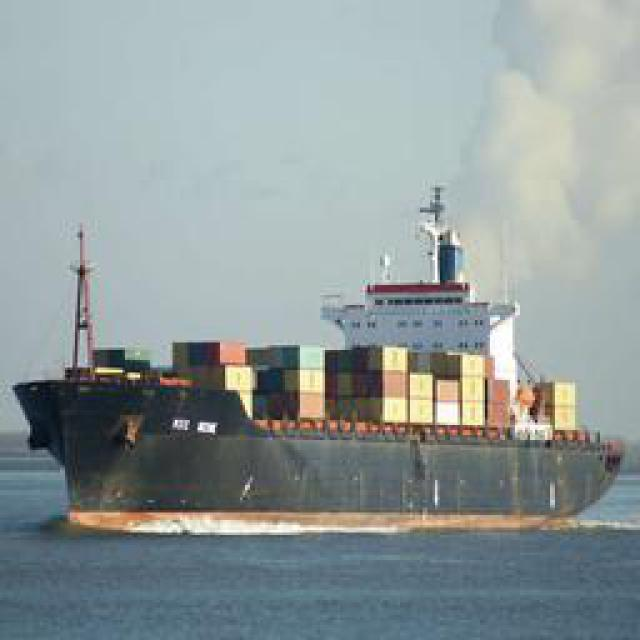Ship: (25, 171, 633, 536)
